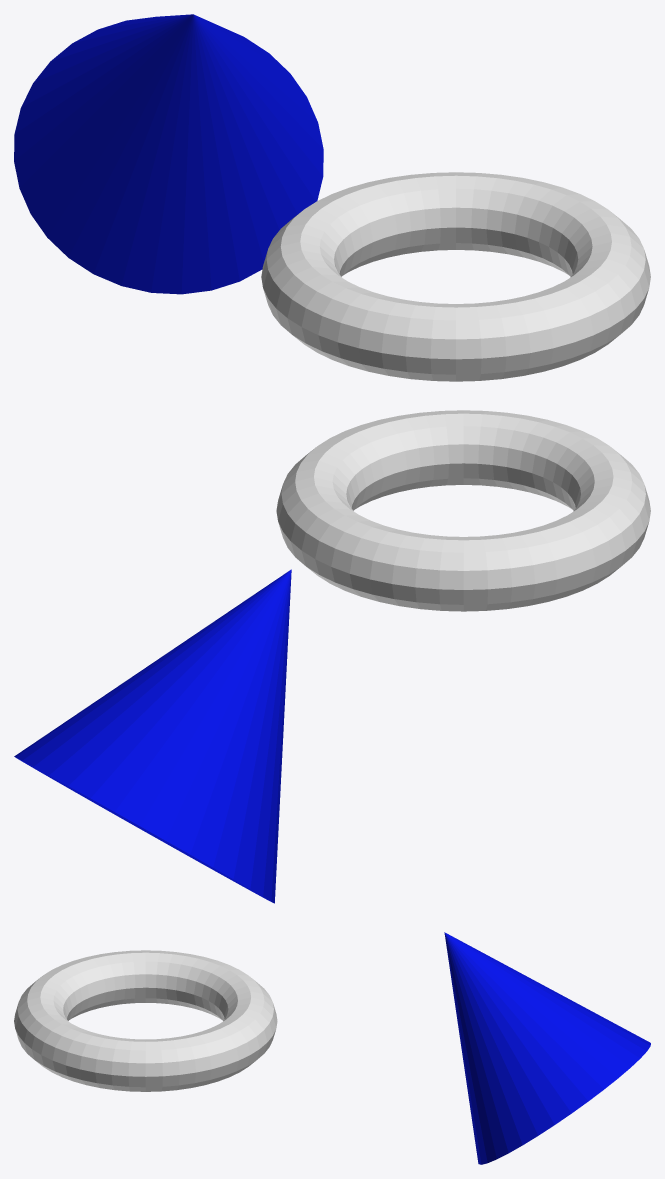
Rendered from BlenderClass1.fbx.
3 renders of one model, top to bottom at view 1: azimuth 30°, elevation 25°; view 2: azimuth 150°, elevation 25°; view 3: azimuth 270°, elevation 25°, orthographic. The views are drawn at different scales.
Parts seen in each view (by area): view 1: Cone, Torus; view 2: Torus, Cone; view 3: Torus, Cone.
Boxes of the visible parts, <box> form: Cone: <box>14,14,323,294</box>; Torus: <box>261,172,650,381</box>; Torus: <box>276,410,650,611</box>; Cone: <box>14,569,291,903</box>; Torus: <box>14,950,277,1091</box>; Cone: <box>444,932,650,1164</box>.
Bounding box in the file's own units: 500 × 438 × 1209.
